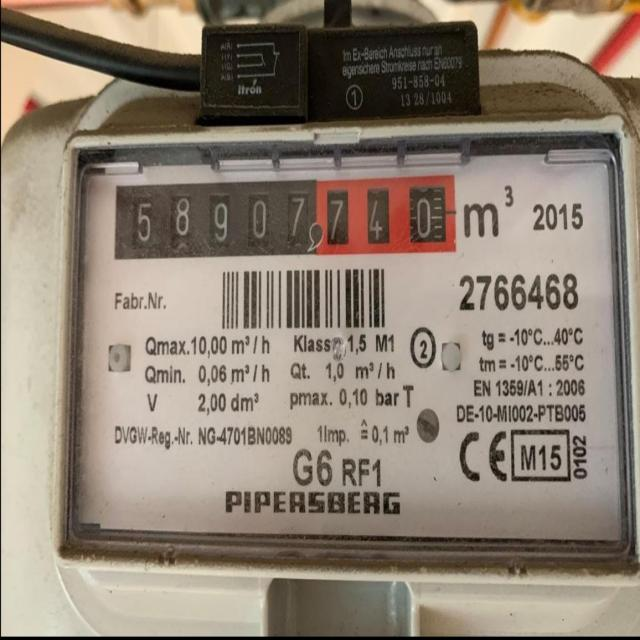gaz_meter: (73, 154, 628, 556)
indication: (115, 174, 455, 259)
